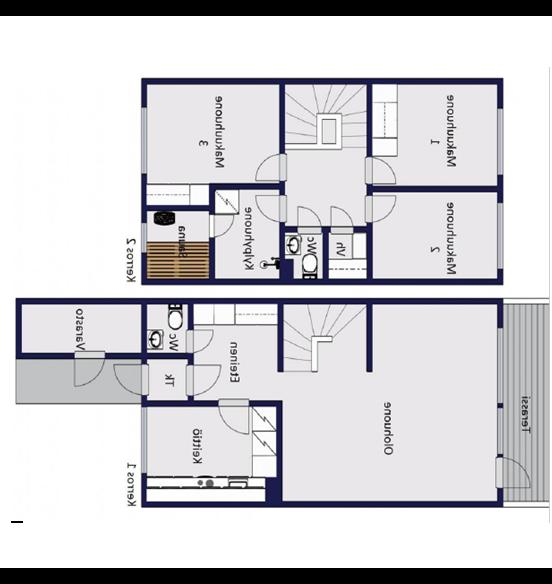door: (494, 454, 532, 494), (216, 396, 252, 437), (112, 360, 150, 398), (70, 349, 106, 389), (184, 362, 222, 398), (250, 149, 288, 183), (253, 192, 290, 224), (364, 193, 398, 226), (365, 154, 397, 186), (326, 204, 354, 238), (184, 328, 216, 356), (294, 204, 322, 236), (208, 214, 236, 241)
window: (491, 198, 507, 275), (490, 104, 506, 180), (134, 402, 150, 476), (492, 324, 506, 406), (136, 102, 150, 178), (490, 402, 505, 456), (136, 218, 149, 258)
